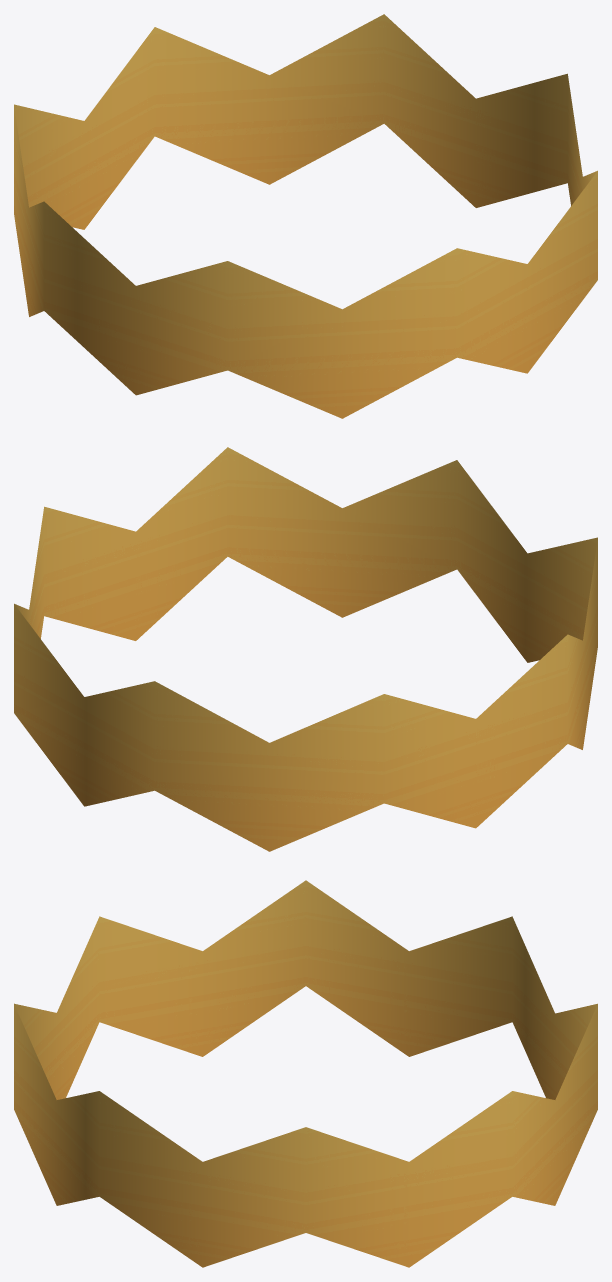
File: indicator-round-e.glb
The picture shows the model from 3 angles, top to bottom: view 1: azimuth 30°, elevation 25°; view 2: azimuth 150°, elevation 25°; view 3: azimuth 270°, elevation 25°; orthographic projection. The views are drawn at different scales.
Parts seen in each view (by area): view 1: rotate-y; view 2: rotate-y; view 3: rotate-y.
Part boxes in pixels (left/top/right/bottom): rotate-y: left=14, top=14, right=597, bottom=418; rotate-y: left=14, top=447, right=597, bottom=851; rotate-y: left=14, top=880, right=597, bottom=1267.
Bounding box in the file's own units: 1 × 0.3 × 1.
1 material, 1 textured.
